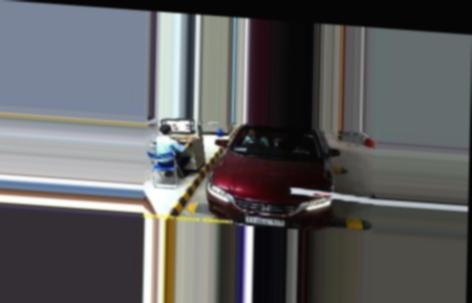License_Plate: (244, 215, 285, 227)
